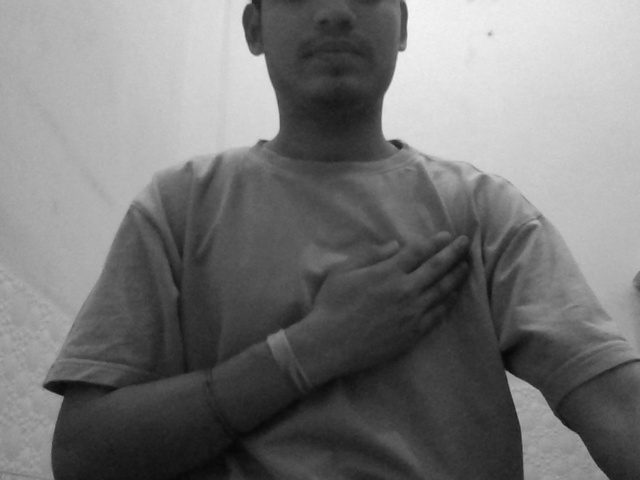Sorry: (283, 201, 536, 370)
